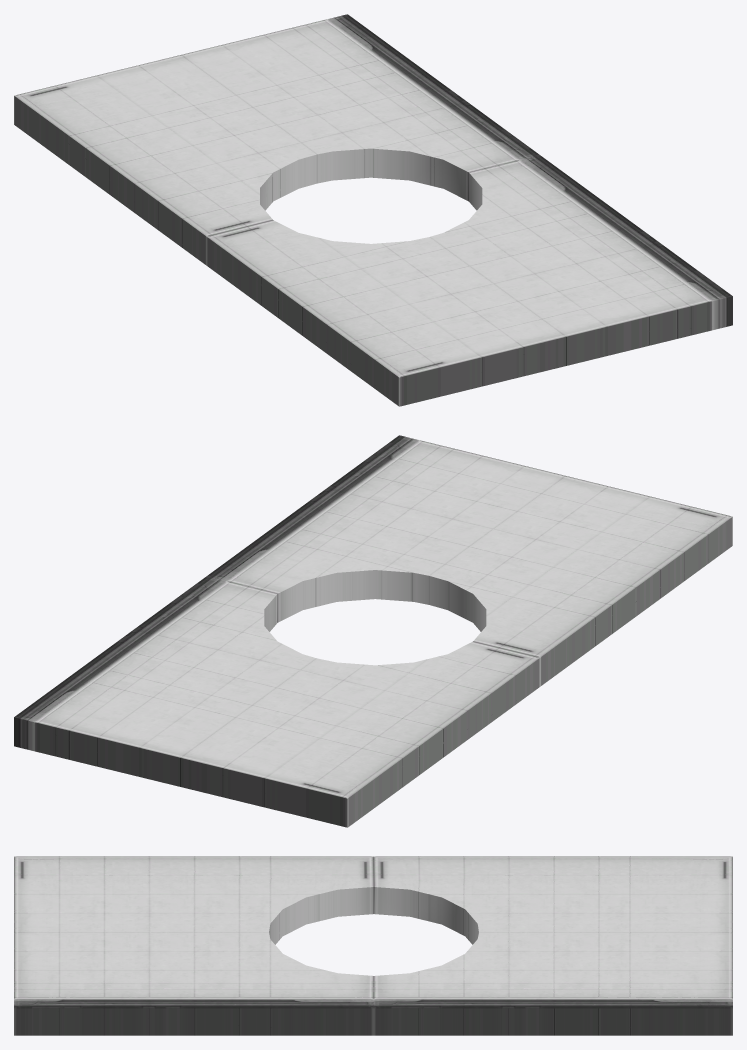
The model's file is Neon_Floor_6x12_hole.FBX.
3 views of the same model, one above another, from view 1: azimuth 30°, elevation 25°; view 2: azimuth 150°, elevation 25°; view 3: azimuth 270°, elevation 25° (orthographic). The views are drawn at different scales.
Visible parts, largest first — view 1: Neon_Floor_6x12_hole; view 2: Neon_Floor_6x12_hole; view 3: Neon_Floor_6x12_hole.
Part boxes in pixels (box(x1,y1,x2,y2)): Neon_Floor_6x12_hole: box(14, 14, 732, 406); Neon_Floor_6x12_hole: box(14, 435, 732, 827); Neon_Floor_6x12_hole: box(14, 856, 732, 1035).
Size of the model in its own units: 6 by 0.5 by 12.
